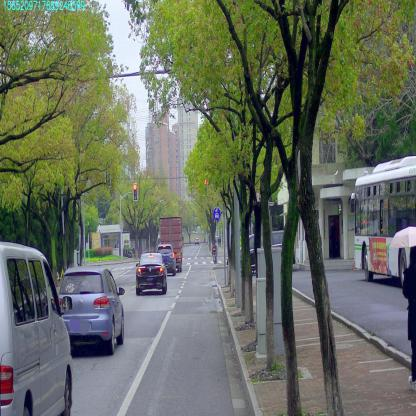traffic-light: (204, 177, 208, 195), (133, 184, 137, 200)
